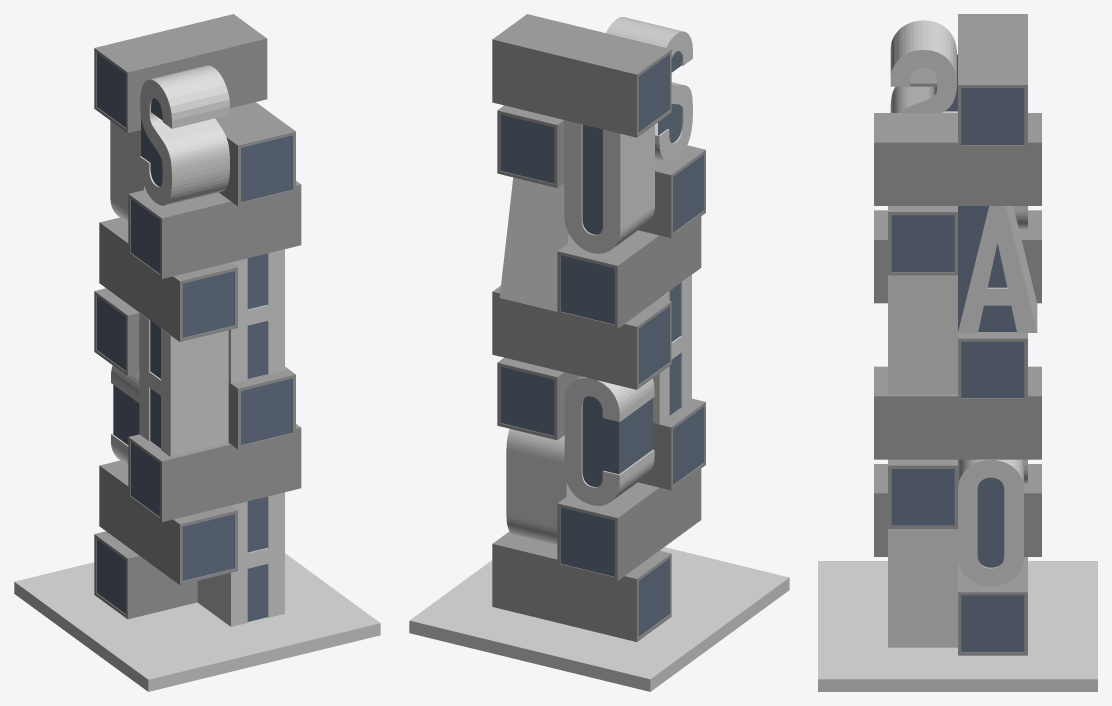
Rendered from hochhaus.glb.
3 renders of one model, left to right at view 1: azimuth 30°, elevation 25°; view 2: azimuth 150°, elevation 25°; view 3: azimuth 270°, elevation 25°, orthographic. The views are drawn at different scales.
Parts seen in each view (by area): view 1: group_0, instance_30, group_15.006, group_15.014, group_10, group_15.004, group_15, group_15.010, group_10.002, group_10.001, group_9, group_15.008 (+24 smaller); view 2: group_0, group_15.014, group_9, group_15.012, group_16, group_15.010, group_15, group_19, group_37, group_22, instance_30, group_10 (+24 smaller); view 3: group_0, group_15.008, group_15.002, group_10.002, group_10.001, group_15.014, group_37, group_19, instance_30, group_15, group_15.010, group_38 (+28 smaller).
Boxes of the visible parts, bbox=[...] form: group_0: bbox=[14, 553, 380, 691]; instance_30: bbox=[139, 65, 229, 205]; group_15.006: bbox=[128, 181, 301, 278]; group_15.014: bbox=[94, 14, 267, 132]; group_10: bbox=[139, 312, 228, 456]; group_15.004: bbox=[128, 424, 301, 521]; group_15: bbox=[99, 460, 237, 584]; group_15.010: bbox=[99, 217, 237, 341]; group_10.002: bbox=[197, 492, 284, 626]; group_10.001: bbox=[228, 249, 284, 383]; group_9: bbox=[94, 531, 197, 619]; group_15.008: bbox=[215, 102, 295, 206]; group_0: bbox=[409, 547, 789, 691]; group_15.014: bbox=[492, 14, 671, 137]; group_9: bbox=[492, 531, 671, 641]; group_15.012: bbox=[492, 285, 671, 389]; group_16: bbox=[564, 120, 654, 253]; group_15.010: bbox=[557, 216, 701, 328]; group_15: bbox=[557, 469, 701, 580]; group_19: bbox=[499, 177, 572, 311]; group_37: bbox=[506, 429, 572, 545]; group_22: bbox=[564, 376, 654, 505]; instance_30: bbox=[606, 17, 692, 162]; group_10: bbox=[653, 275, 691, 424]; group_0: bbox=[818, 561, 1097, 691]; group_15.008: bbox=[874, 113, 1041, 205]; group_15.002: bbox=[874, 366, 1041, 459]; group_10.002: bbox=[888, 529, 957, 647]; group_10.001: bbox=[888, 275, 957, 393]; group_15.014: bbox=[958, 14, 1027, 148]; group_37: bbox=[958, 459, 1023, 586]; group_19: bbox=[958, 206, 1037, 332]; instance_30: bbox=[890, 20, 957, 112]; group_15: bbox=[874, 464, 1041, 556]; group_15.010: bbox=[874, 210, 1041, 303]; group_38: bbox=[977, 477, 1004, 567].
Size of the model in its own units: 12.6 by 28.98 by 12.6.
